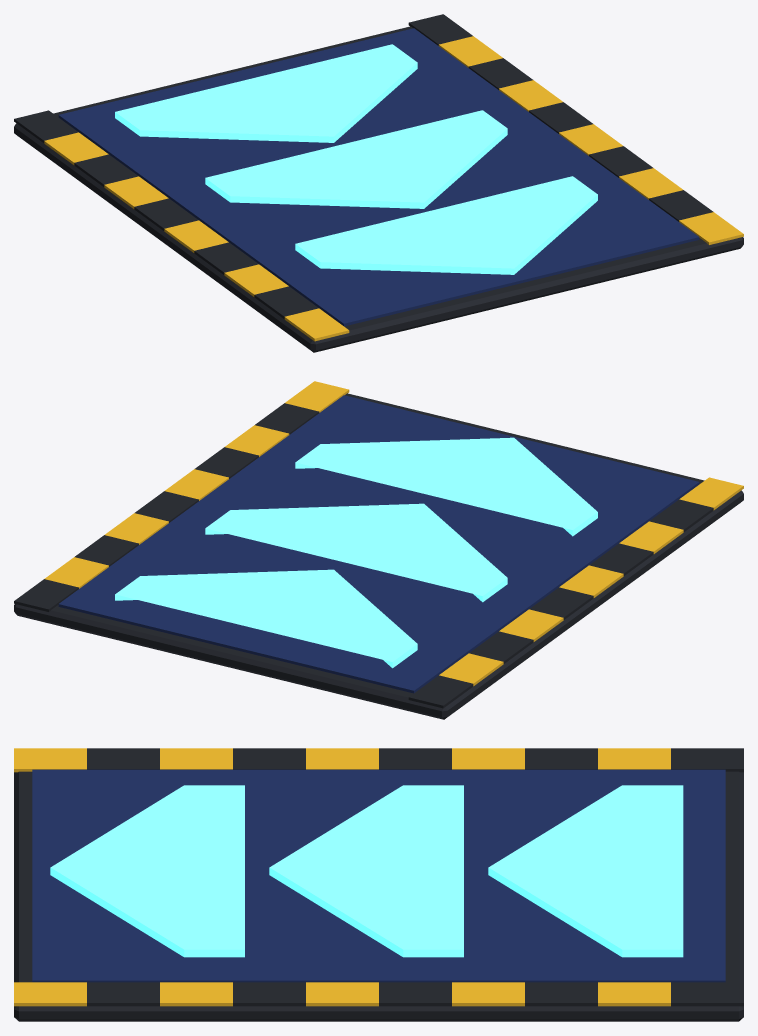
File: BoostPad.fbx
3 views of the same model, one above another, from view 1: azimuth 30°, elevation 25°; view 2: azimuth 150°, elevation 25°; view 3: azimuth 270°, elevation 25° (orthographic). The views are drawn at different scales.
Parts seen in each view (by area): view 1: BoostPad, Neon_Cyan; view 2: BoostPad, Neon_Cyan; view 3: BoostPad, Neon_Cyan.
Part boxes in pixels (x1,y1,x2,y2): BoostPad: (14, 14, 743, 352); Neon_Cyan: (115, 44, 597, 274); BoostPad: (14, 381, 743, 719); Neon_Cyan: (115, 437, 597, 668); BoostPad: (14, 748, 743, 1021); Neon_Cyan: (50, 785, 683, 957).
Bounding box in the file's own units: 10 × 0.5 × 12.
Materials: 2 (1 with a texture image).
